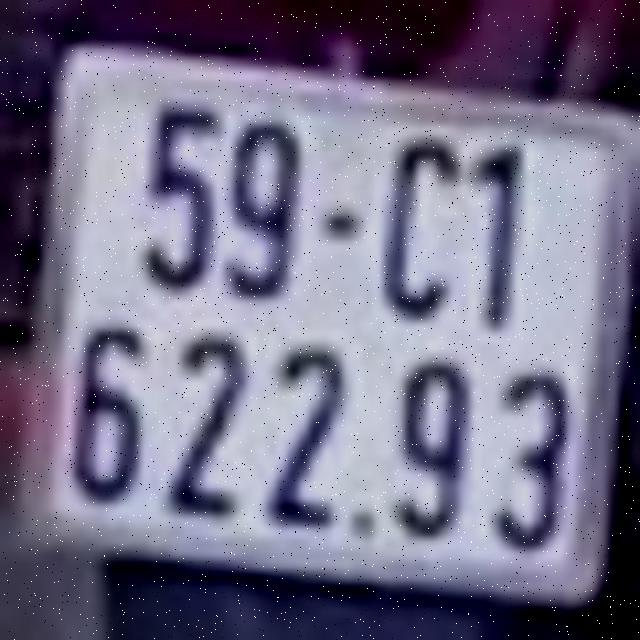1: (468, 138, 525, 332)
2: (168, 331, 244, 518), (268, 341, 342, 529)
3: (496, 365, 568, 553)
5: (142, 97, 218, 290)
6: (73, 320, 144, 504)
9: (226, 117, 298, 300), (397, 352, 467, 539)
C: (380, 133, 460, 320)
